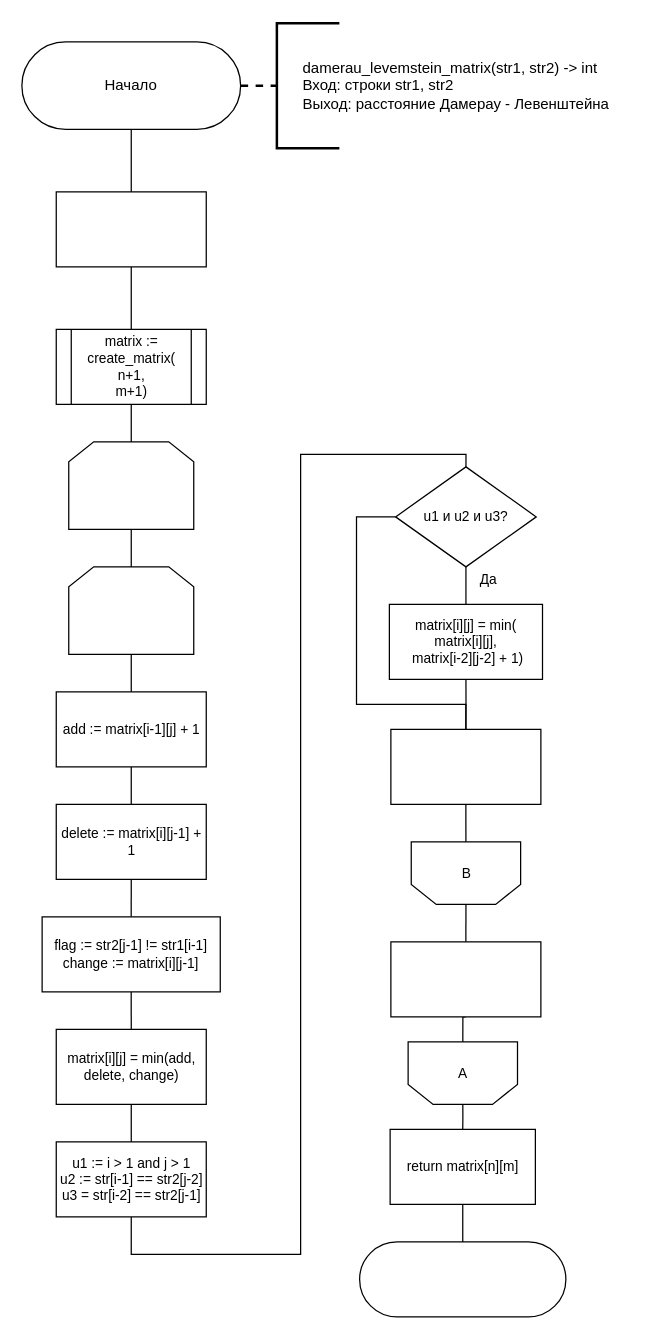
Some shapes in this 648 by 1339 pixel diagram are drawn without their labels. Here are the shapes that lost their labels. From the top down, the centre of each, then its label:
At (x=130, y=229): "n := len(str1); m := len(str2);".
At (x=131, y=485): "A: Цикл по i от 1 до n+1".
At (x=131, y=610): "B: Цикл по j от 1 до m+1".
At (x=465, y=766): "j++;".
At (x=465, y=979): "i++".
At (x=462, y=1279): "Конец".
